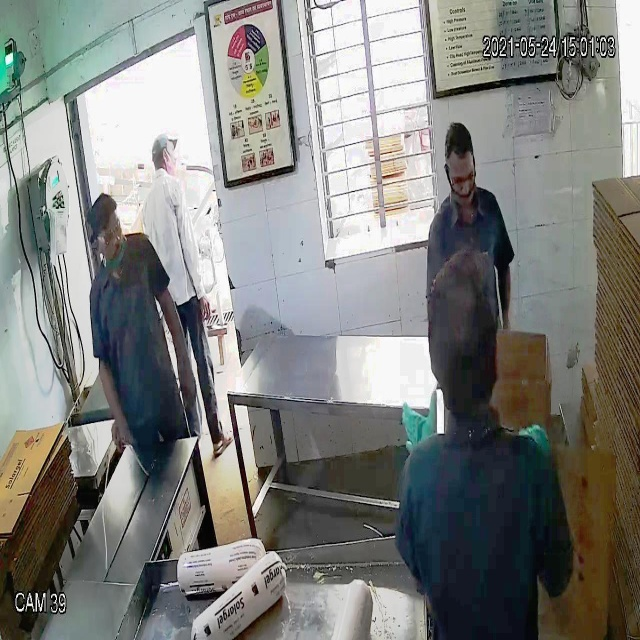Gafas: (443, 161, 479, 196), (90, 219, 124, 251)
